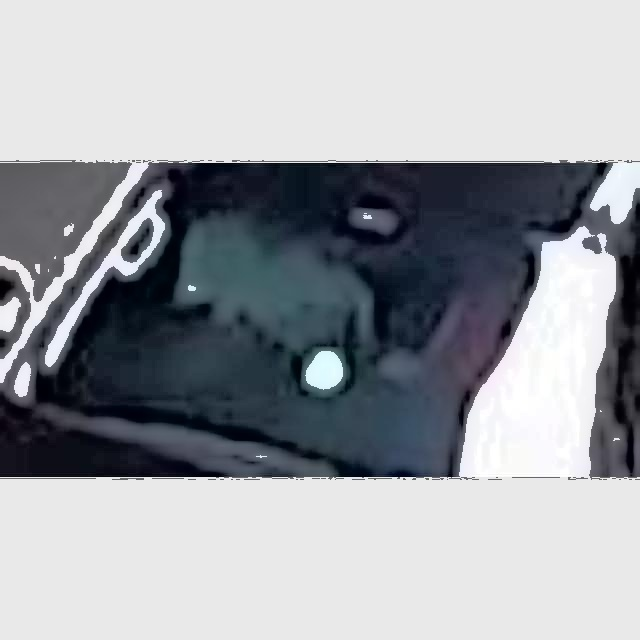tidak-pakai: (145, 204, 361, 372)
